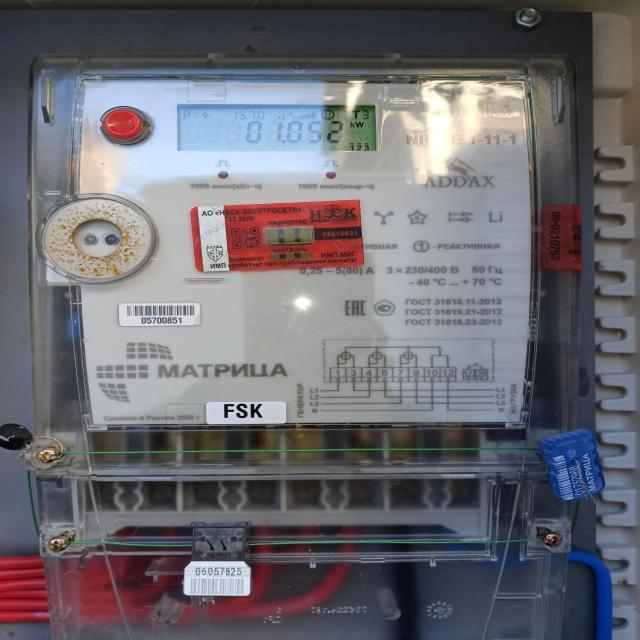Display: (177, 105, 381, 151)
meter_matrica: (13, 13, 634, 640)
meter_number: (120, 304, 206, 327)
seal_imp: (193, 200, 364, 272)
